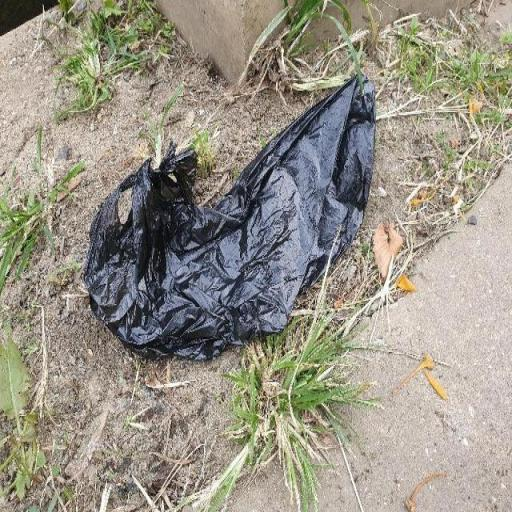plastic-bag: (81, 70, 380, 361)
